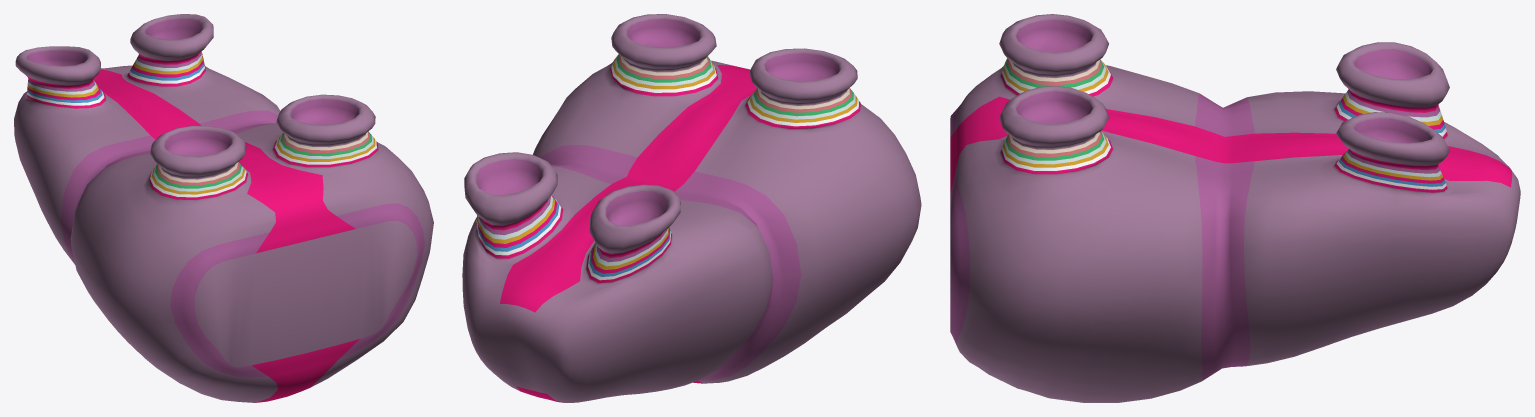
Rendered from OctopusTentacleTip.fbx.
3 renders of one model, left to right at view 1: azimuth 30°, elevation 25°; view 2: azimuth 150°, elevation 25°; view 3: azimuth 270°, elevation 25°, orthographic. The views are drawn at different scales.
Visible parts, largest first — view 1: Tentacle Tip; view 2: Tentacle Tip; view 3: Tentacle Tip.
Boxes of the visible parts, x1=… form: Tentacle Tip: x1=14, y1=14, x2=433, y2=402; Tentacle Tip: x1=462, y1=14, x2=921, y2=402; Tentacle Tip: x1=950, y1=14, x2=1520, y2=402.
Size of the model in its own units: 154 by 128 by 206.
